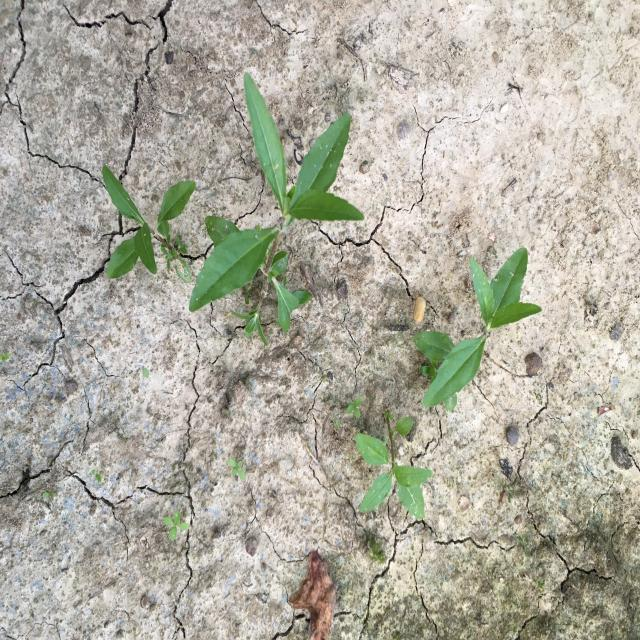Eclipta: (187, 70, 366, 347), (411, 244, 543, 414), (101, 162, 197, 285), (354, 404, 434, 522)
